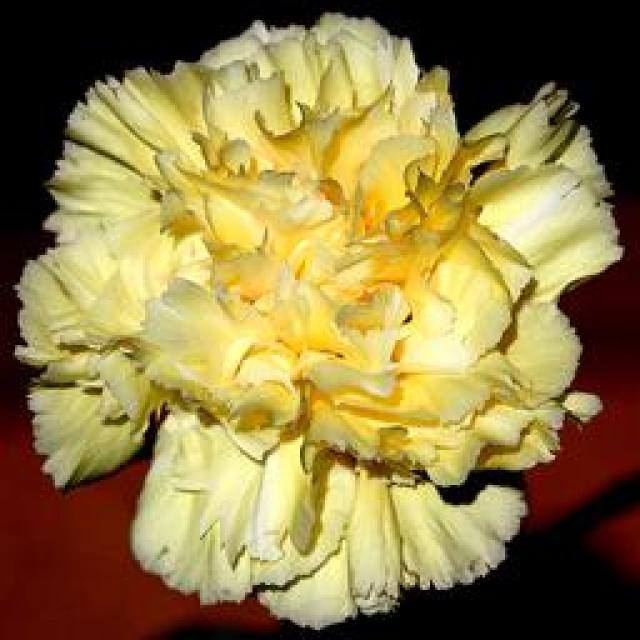carnation: (10, 23, 640, 640)
